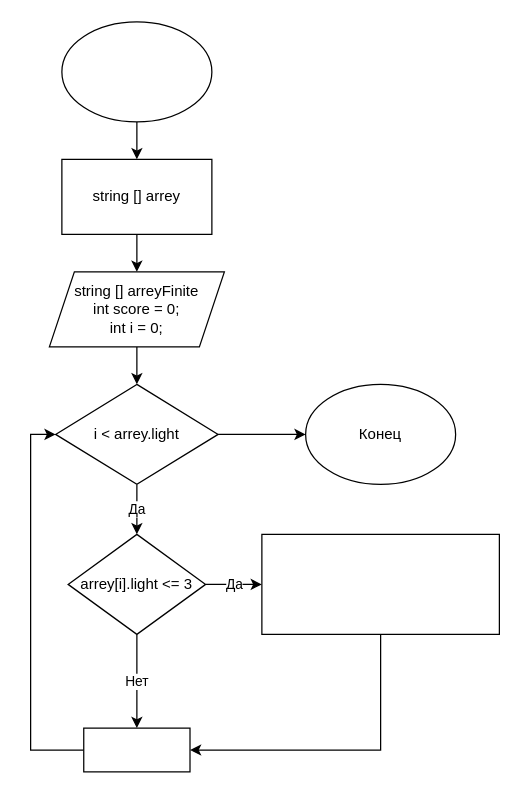
Image size: 521x794. Some labels were removed from this diagram. Each missing label, with the centre of its shape:
"arreyFinite[score] = arrey[i]; score++;" belongs at point (380, 583).
"i++;" belongs at point (136, 749).
"Начало" belongs at point (136, 71).
